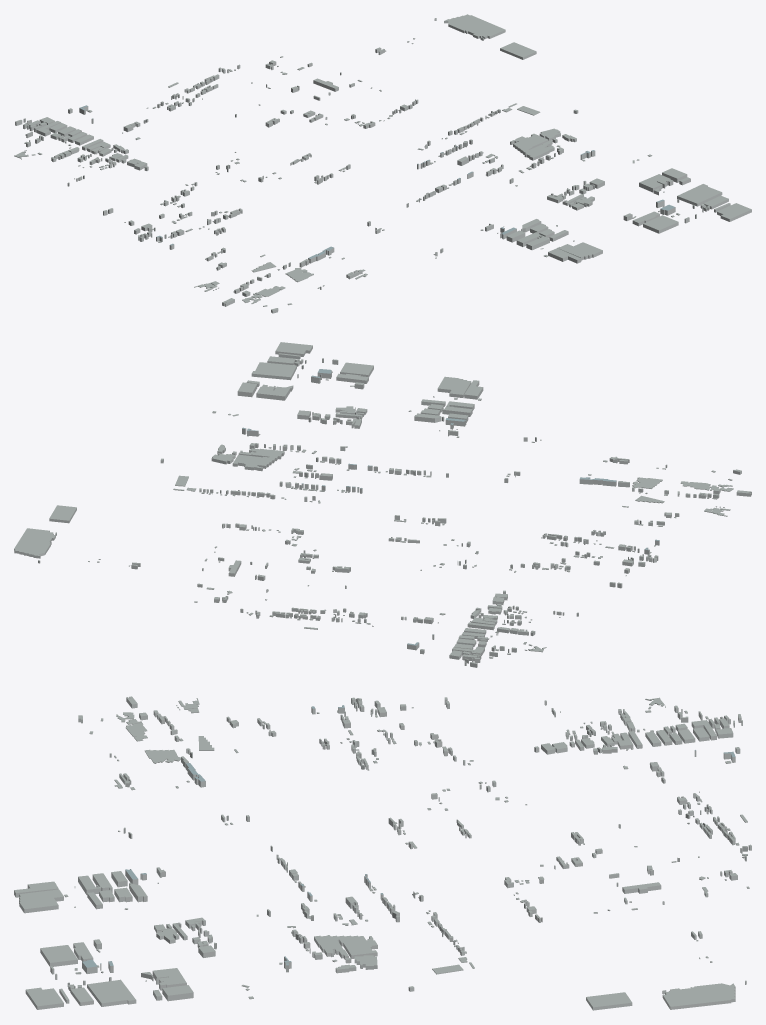
File: far.glb
The picture shows the model from 3 angles, top to bottom: view 1: azimuth 30°, elevation 25°; view 2: azimuth 150°, elevation 25°; view 3: azimuth 270°, elevation 25°; orthographic projection. The views are drawn at different scales.
Bounding box in the file's own units: 2166 × 22.8 × 2165.
